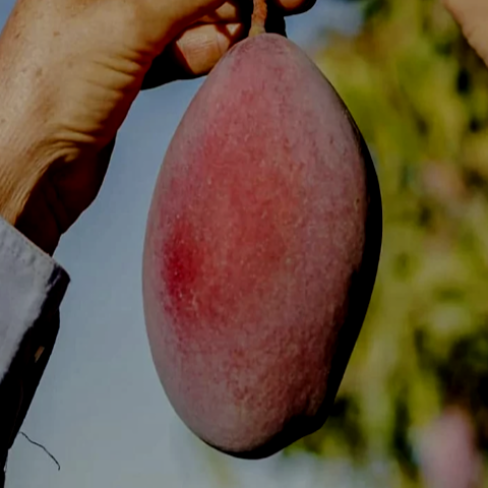mango: (122, 16, 412, 465)
